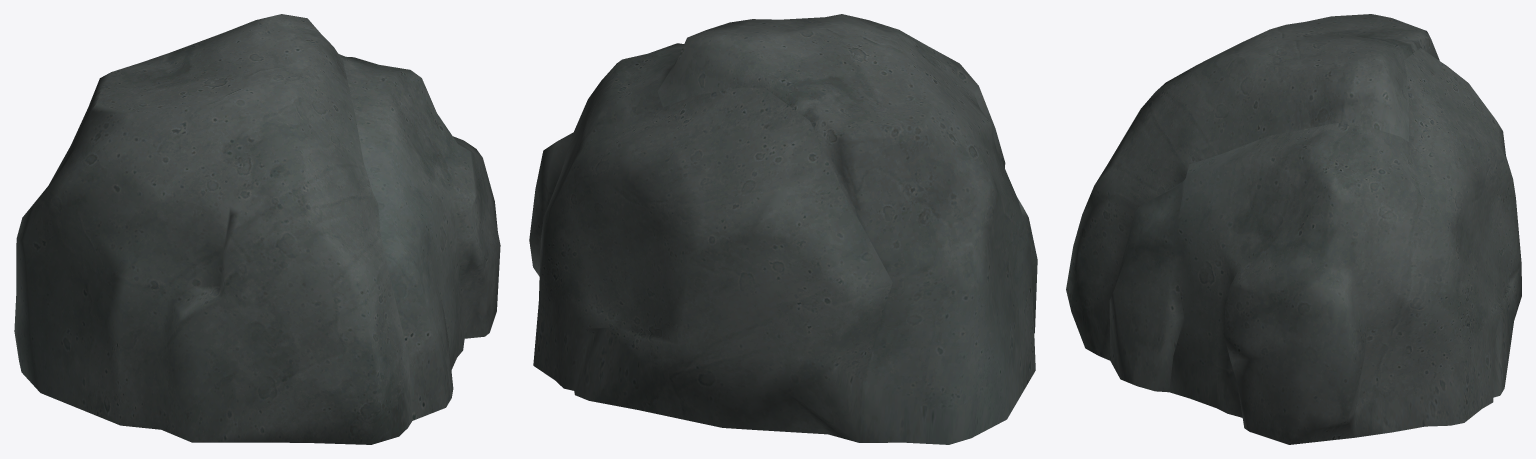
Rendered from Cliff_Wall_Short05.fbx.
The picture shows the model from 3 angles, left to right: view 1: azimuth 30°, elevation 25°; view 2: azimuth 150°, elevation 25°; view 3: azimuth 270°, elevation 25°; orthographic projection. The views are drawn at different scales.
Visible parts, largest first — view 1: SM_CliffWall_Small05.mo; view 2: SM_CliffWall_Small05.mo; view 3: SM_CliffWall_Small05.mo.
Part boxes in pixels (x1,y1,x2,y2): SM_CliffWall_Small05.mo: (14, 14, 500, 444); SM_CliffWall_Small05.mo: (529, 14, 1037, 444); SM_CliffWall_Small05.mo: (1066, 14, 1521, 444).
Size of the model in its own units: 642 by 426 by 585.
1 material, 1 textured.
